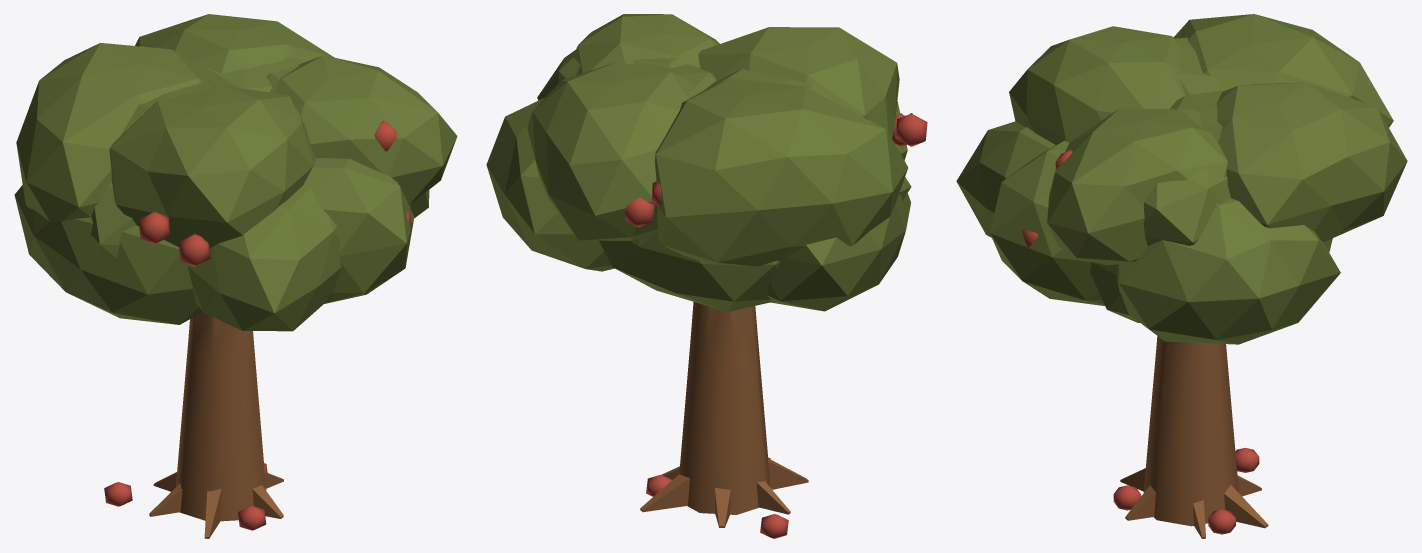
Rendered from tree_apple_a.glb.
The picture shows the model from 3 angles, left to right: view 1: azimuth 30°, elevation 25°; view 2: azimuth 150°, elevation 25°; view 3: azimuth 270°, elevation 25°; orthographic projection.
Visible parts, largest first — view 1: tree_apple_a_LOD0; view 2: tree_apple_a_LOD0; view 3: tree_apple_a_LOD0.
Part boxes in pixels (x1,y1,x2,y2): tree_apple_a_LOD0: [14, 14, 457, 538]; tree_apple_a_LOD0: [486, 14, 927, 538]; tree_apple_a_LOD0: [956, 14, 1407, 538].
Size of what is drawn, in the model's own units: 3.93 by 4.23 by 3.88.
